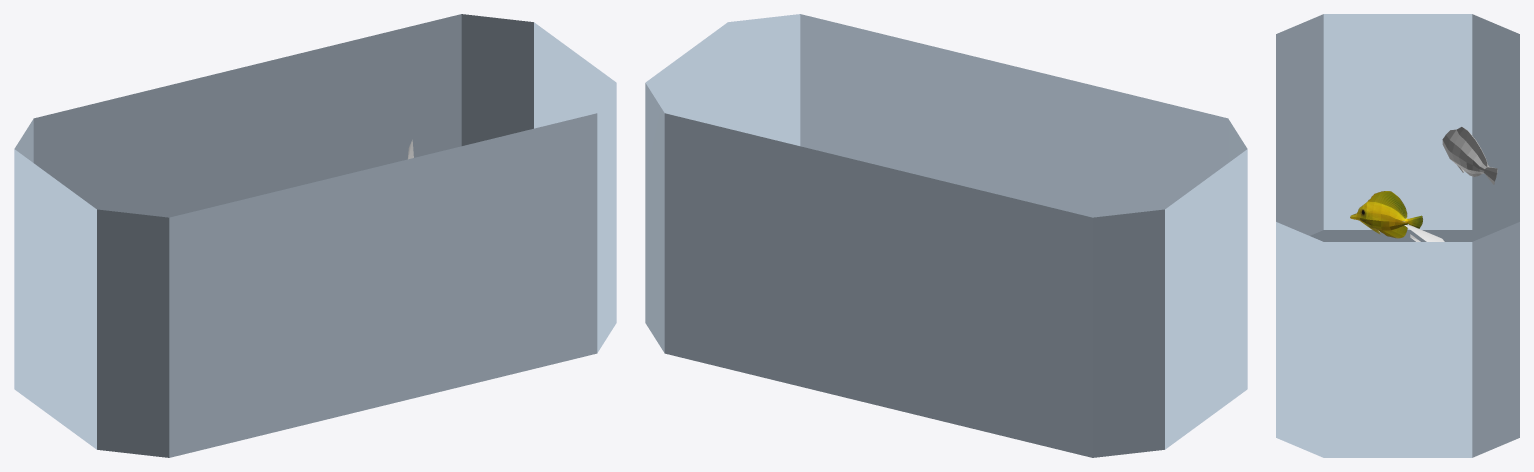
The model's file is yugang.fbx.
3 views of the same model, side by side, from view 1: azimuth 30°, elevation 25°; view 2: azimuth 150°, elevation 25°; view 3: azimuth 270°, elevation 25° (orthographic). The views are drawn at different scales.
Parts seen in each view (by area): view 1: 立方体_1; view 2: 立方体_1; view 3: 立方体_1, yu_2, yu_1, 平面.
Part boxes in pixels (bbox=[...]): 立方体_1: bbox=[14, 14, 616, 457]; 立方体_1: bbox=[645, 14, 1247, 457]; 立方体_1: bbox=[1276, 14, 1519, 457]; yu_2: bbox=[1350, 191, 1422, 238]; yu_1: bbox=[1442, 127, 1497, 184]; 平面: bbox=[1404, 225, 1444, 241].
Size of the model in its own units: 1824 by 811 by 824.
